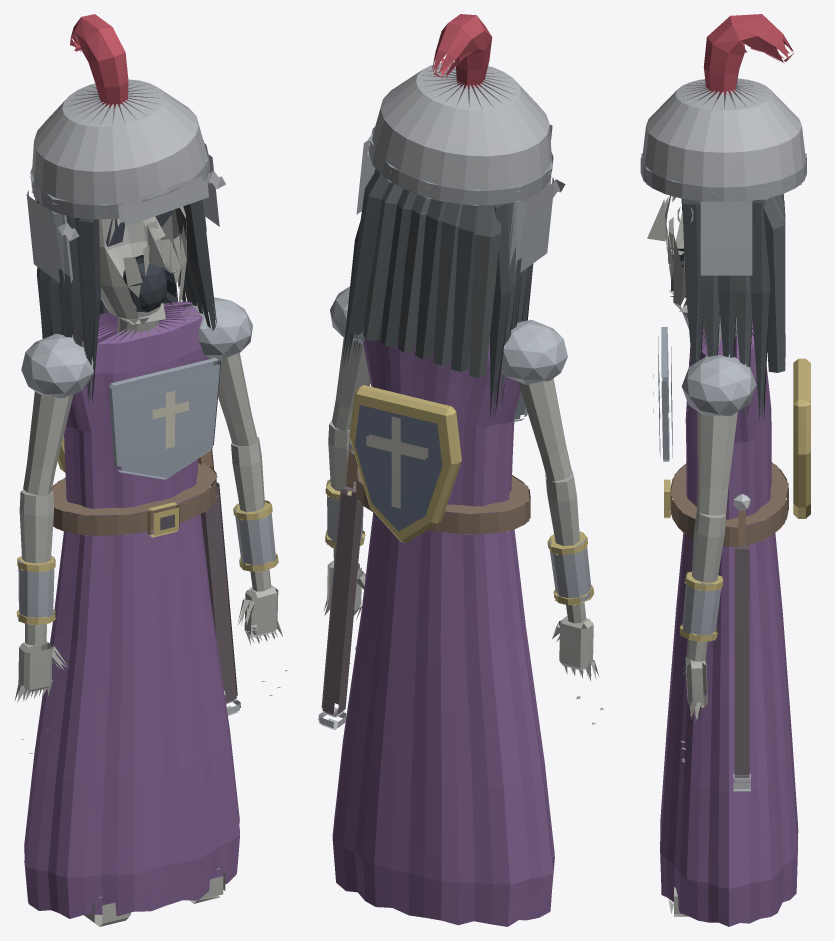
The model's file is SlendrinaKnight.glb.
3 views of the same model, side by side, from view 1: azimuth 30°, elevation 25°; view 2: azimuth 150°, elevation 25°; view 3: azimuth 270°, elevation 25° (orthographic). The views are drawn at different scales.
Parts seen in each view (by area): view 1: Body, Head, ArmR, ArmL, LegR; view 2: Body, Head, ArmR, ArmL; view 3: Body, Head, ArmL.
Part boxes in pixels (box(x1,y1,x2,y2)): Body: box(24, 301, 240, 918); Head: box(26, 14, 225, 403); ArmR: box(14, 334, 93, 753); ArmL: box(179, 297, 288, 695); LegR: box(83, 897, 130, 926); Body: box(318, 331, 554, 926); Head: box(342, 14, 565, 419); ArmR: box(501, 320, 603, 724); ArmL: box(323, 286, 370, 663); Body: box(653, 313, 810, 926); Head: box(640, 14, 806, 422); ArmL: box(679, 354, 756, 762).
Size of the model in its own units: 2.44 by 7.58 by 1.5.
